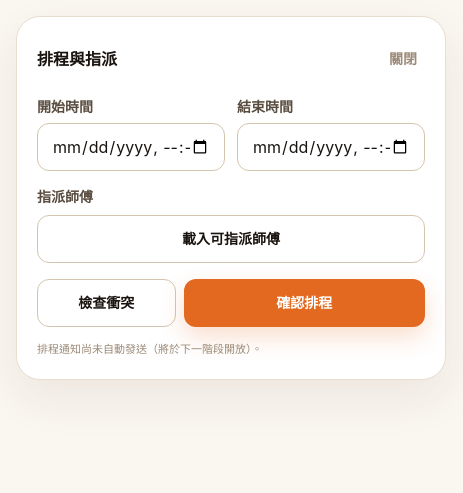
it: WorkOrderAssignSheet › assigns the first selected member as lead
This screenshot has width=463, height=493.
Click the button "載入可指派師傅" at [231, 239], box [37,215,425,263]
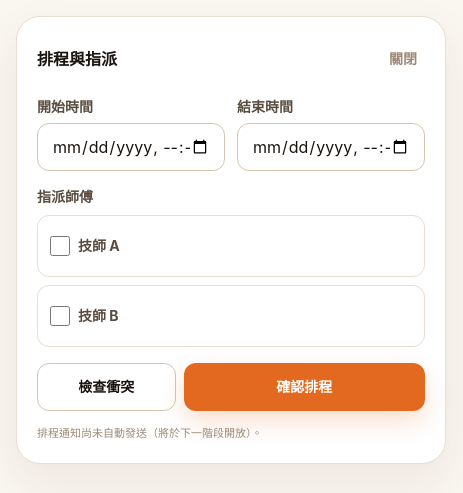
expect the text "技師 A" is shown: met, box [78,236,120,256]
Type "2026-08-10T09:00" into the field labelled "開始時間" at [131, 147], box [37,123,225,171]
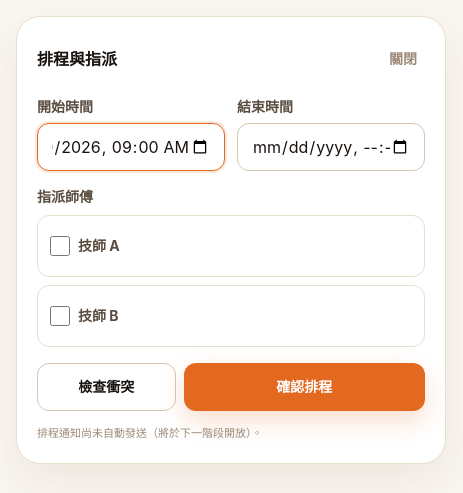
Type "2026-08-10T11:00" into the field labelled "結束時間" at [331, 147], box [237,123,425,171]
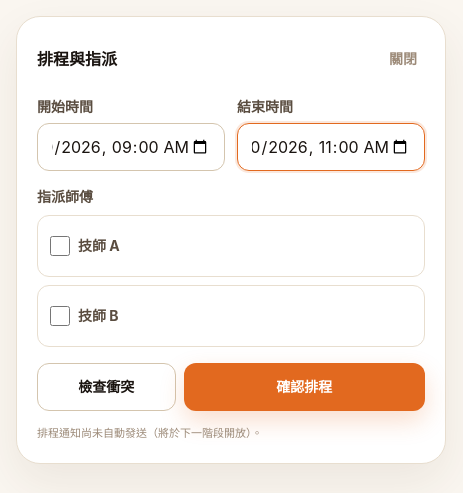
Click the checkbox labelled "技師 A" at [60, 246], box [50,236,70,256]
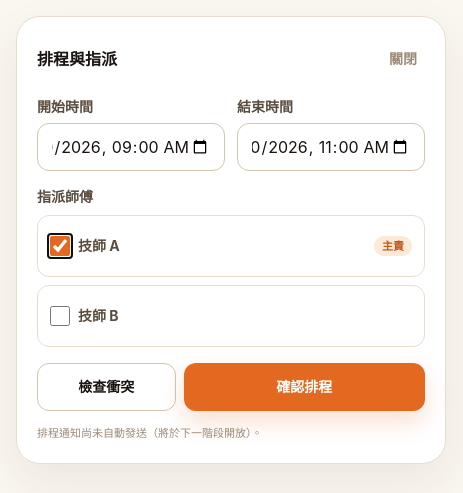
expect the text "主責" is shown: met, box [374,236,412,256]
